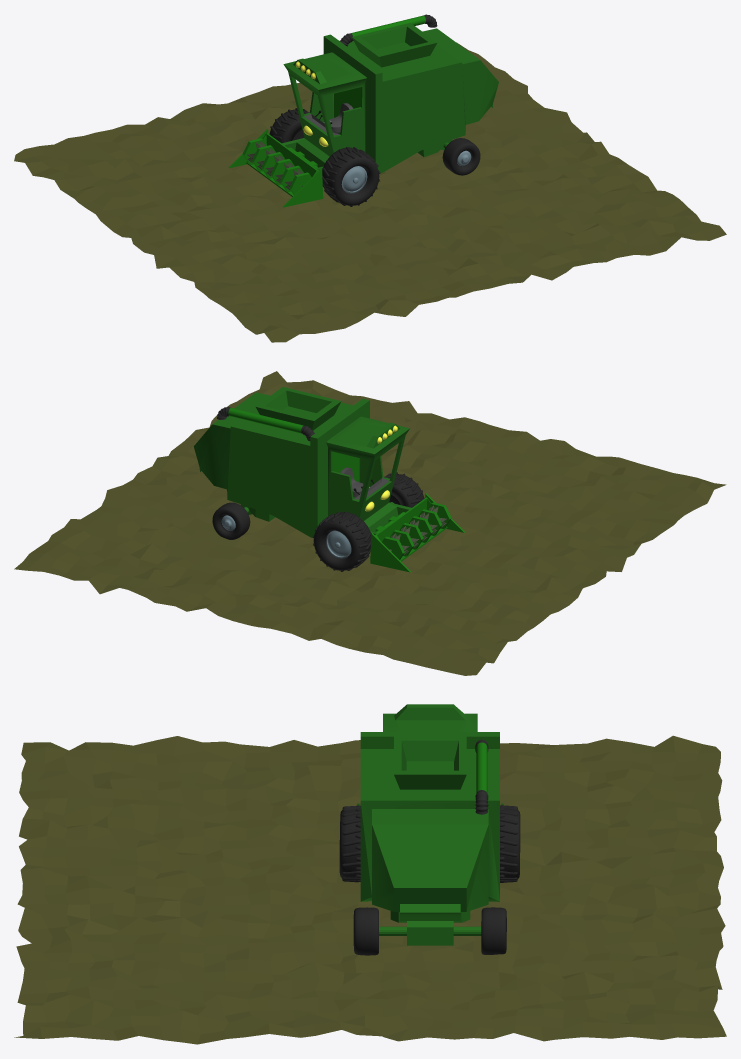
Rendered from combine_harvester_-_colheitadeira.glb.
3 views of the same model, one above another, from view 1: azimuth 30°, elevation 25°; view 2: azimuth 150°, elevation 25°; view 3: azimuth 270°, elevation 25° (orthographic). The views are drawn at different scales.
Visible parts, largest first — view 1: Plane, Sphere.001, Cylinder.004, farm_tractor.002, farm_tractor.000, farm_tractor.015, Cylinder.002; view 2: Plane, Sphere.001, Cylinder.004, farm_tractor.015, farm_tractor.001, Cylinder.002, farm_tractor.002, Sphere.004; view 3: Plane, Sphere.001, Cylinder.001, farm_tractor.002, farm_tractor.015, farm_tractor.000, farm_tractor.001, Cylinder.002.
Boxes of the visible parts, bbox=[...] form: Plane: bbox=[14, 42, 726, 342]; Sphere.001: bbox=[282, 23, 498, 172]; Cylinder.004: bbox=[229, 129, 323, 207]; farm_tractor.002: bbox=[322, 147, 380, 206]; farm_tractor.000: bbox=[442, 138, 480, 175]; farm_tractor.015: bbox=[269, 108, 309, 143]; Cylinder.002: bbox=[340, 14, 437, 46]; Plane: bbox=[14, 371, 726, 675]; Sphere.001: bbox=[193, 387, 411, 537]; Cylinder.004: bbox=[370, 493, 464, 572]; farm_tractor.015: bbox=[312, 511, 371, 571]; farm_tractor.001: bbox=[212, 502, 250, 539]; Cylinder.002: bbox=[217, 406, 314, 441]; farm_tractor.002: bbox=[384, 472, 424, 507]; Sphere.004: bbox=[332, 451, 359, 498]; Plane: bbox=[14, 735, 726, 1044]; Sphere.001: bbox=[360, 704, 499, 920]; Cylinder.001: bbox=[379, 911, 481, 945]; farm_tractor.002: bbox=[339, 805, 360, 882]; farm_tractor.015: bbox=[500, 805, 520, 882]; farm_tractor.000: bbox=[353, 907, 378, 955]; farm_tractor.001: bbox=[481, 907, 506, 954]; Cylinder.002: bbox=[475, 739, 488, 814].
Size of the model in its own units: 12.41 by 3.39 by 12.4.
Materials: 16 (1 with a texture image).
